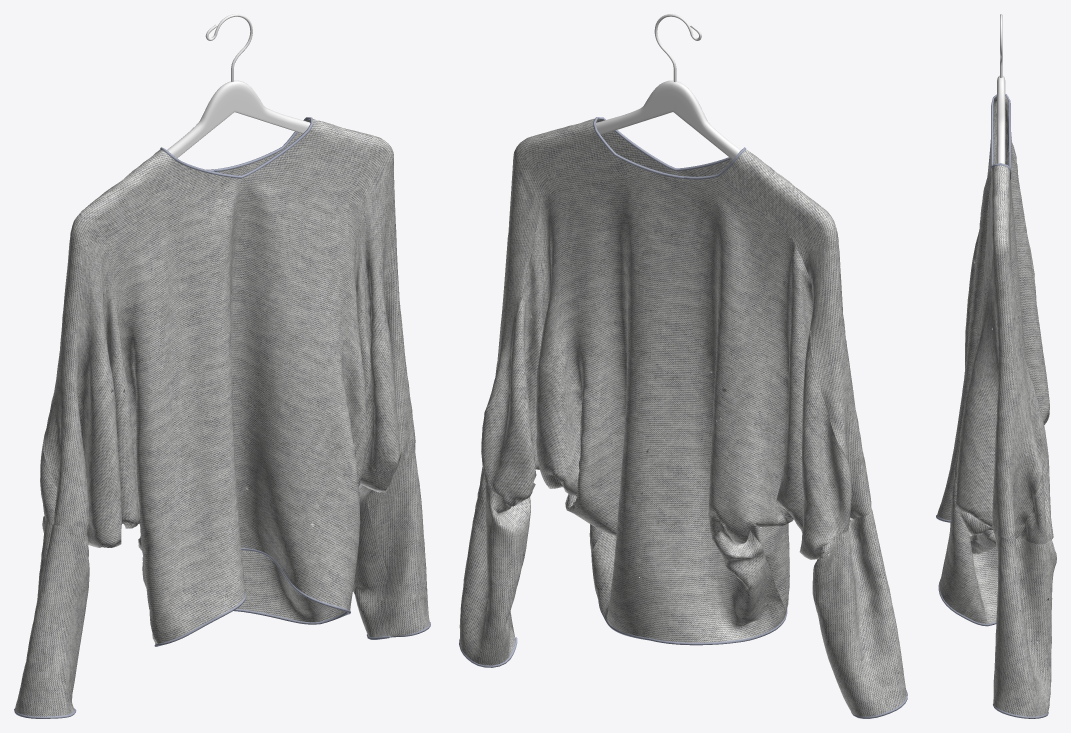
Rendered from shirt.glb.
3 renders of one model, left to right at view 1: azimuth 30°, elevation 25°; view 2: azimuth 150°, elevation 25°; view 3: azimuth 270°, elevation 25°, orthographic. The views are drawn at different scales.
Parts seen in each view (by area): view 1: shirt_dolmanv1_b_39kpolys; view 2: shirt_dolmanv1_b_39kpolys; view 3: shirt_dolmanv1_b_39kpolys.
Part boxes in pixels (<box>): shirt_dolmanv1_b_39kpolys: <box>14,14,430,718</box>; shirt_dolmanv1_b_39kpolys: <box>459,14,907,718</box>; shirt_dolmanv1_b_39kpolys: <box>936,14,1056,718</box>.
Size of the model in its own units: 53.07 by 80.63 by 14.22.
5 materials, 2 textured.
